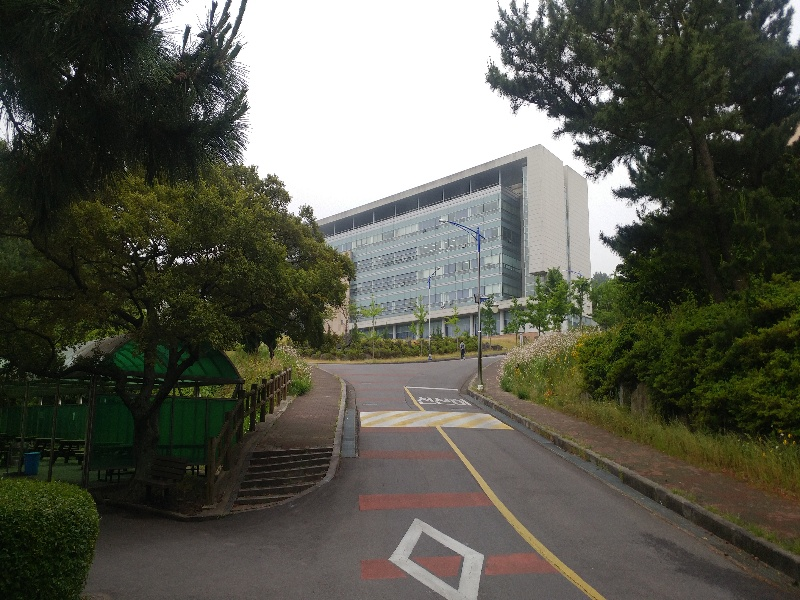Engineering College Building 4: (324, 143, 594, 331), (357, 192, 586, 301)
